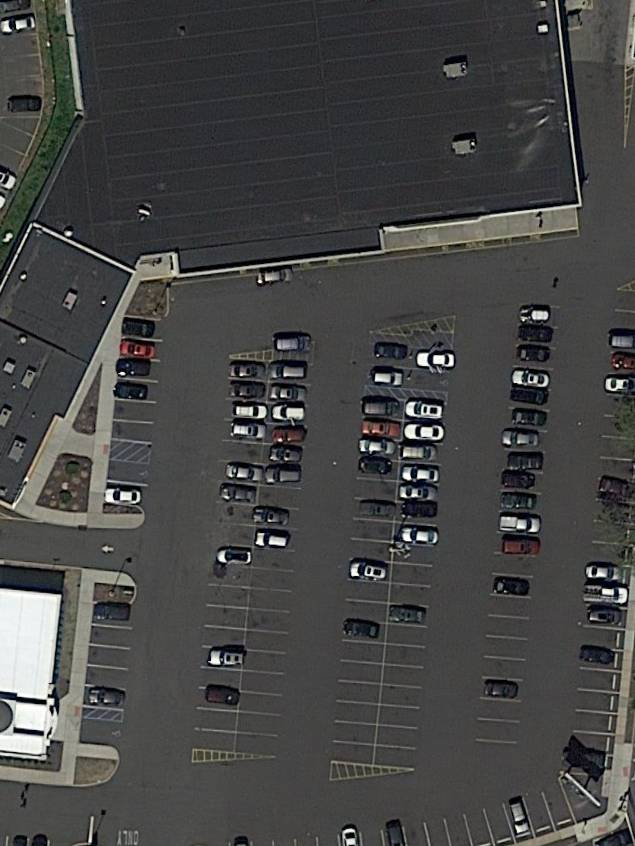small vehicle: (599, 476, 635, 500), (361, 419, 404, 439), (512, 368, 551, 390), (219, 483, 257, 505), (583, 586, 628, 604), (497, 515, 542, 533), (509, 386, 549, 406), (254, 268, 295, 287), (94, 601, 131, 622), (508, 801, 530, 835), (342, 620, 381, 639), (104, 487, 143, 506), (225, 463, 264, 482), (400, 527, 439, 546), (349, 561, 388, 580), (406, 400, 445, 419), (404, 423, 445, 441), (253, 507, 290, 526), (361, 398, 400, 416), (401, 465, 440, 483), (2, 15, 37, 35), (400, 483, 438, 501), (503, 538, 540, 556), (502, 430, 539, 448), (217, 547, 252, 566), (121, 341, 156, 360), (502, 471, 537, 490), (585, 565, 624, 582), (494, 578, 530, 596), (88, 689, 126, 706), (206, 649, 244, 666), (255, 530, 289, 549), (114, 381, 148, 400), (358, 437, 396, 454), (499, 493, 537, 510), (359, 500, 397, 517), (416, 352, 456, 368), (398, 444, 438, 460), (231, 421, 266, 439), (580, 647, 615, 665), (389, 607, 426, 624), (270, 363, 307, 380), (359, 456, 392, 475), (206, 687, 240, 705), (517, 346, 552, 363), (118, 359, 151, 377), (122, 319, 155, 337), (265, 468, 302, 484), (274, 337, 311, 353), (270, 386, 306, 402), (229, 382, 265, 398), (586, 609, 622, 625), (511, 409, 547, 425), (402, 502, 438, 518), (269, 446, 302, 463), (272, 404, 305, 421), (483, 682, 518, 698), (519, 327, 554, 343), (230, 403, 267, 418), (229, 364, 265, 379), (507, 454, 543, 469), (8, 97, 41, 113), (271, 427, 306, 442), (376, 344, 408, 360), (604, 377, 635, 393), (520, 307, 551, 323), (373, 370, 403, 386)
